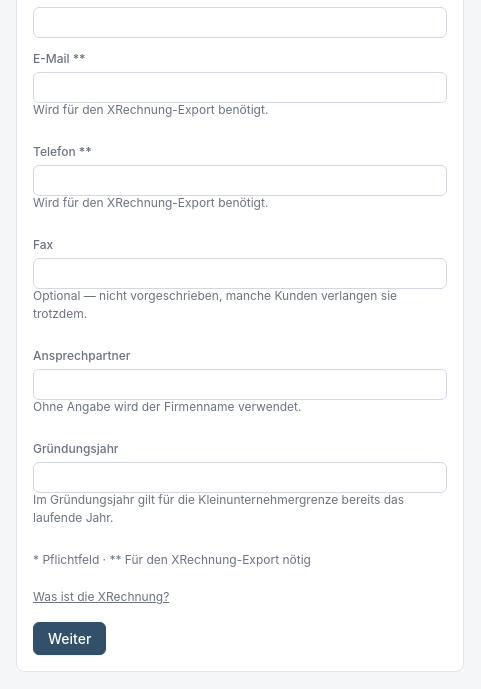
Test: Einrichtung › geht bei fehlerfreien Angaben weiter
(page scrolled)
What coordinates should you click on to do the following:
click the button "Weiter"
I would click on:
 (70, 638)
Its box is top-left (33, 622), bottom-right (106, 655).
(page scrolled)
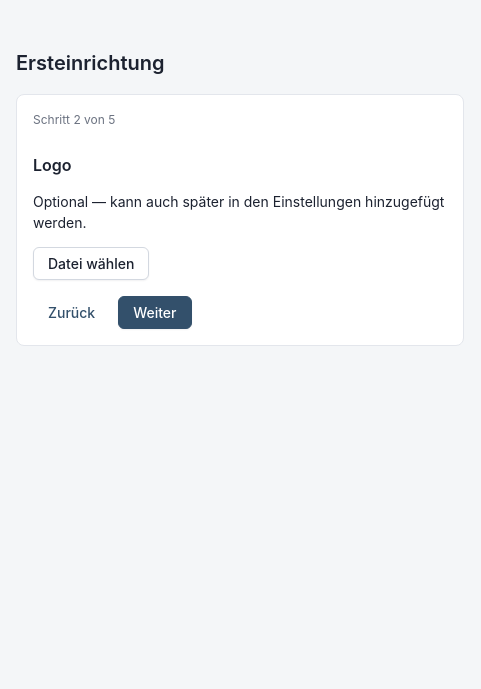
Check: the text "Schritt 2 von 5" is shown, box top-left (33, 112), bottom-right (115, 127)
